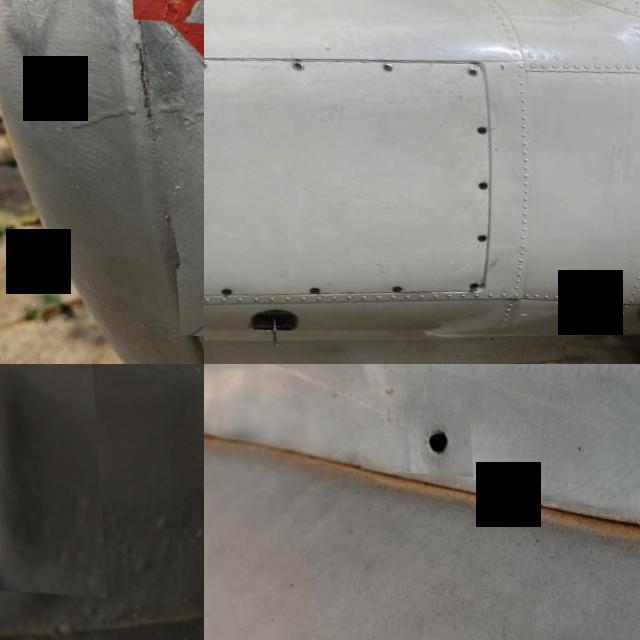Crack: (625, 275, 640, 314)
Dent: (0, 364, 102, 593)
Missing_Fastener: (402, 405, 468, 472), (169, 265, 204, 335), (126, 0, 204, 20), (634, 308, 640, 313)
